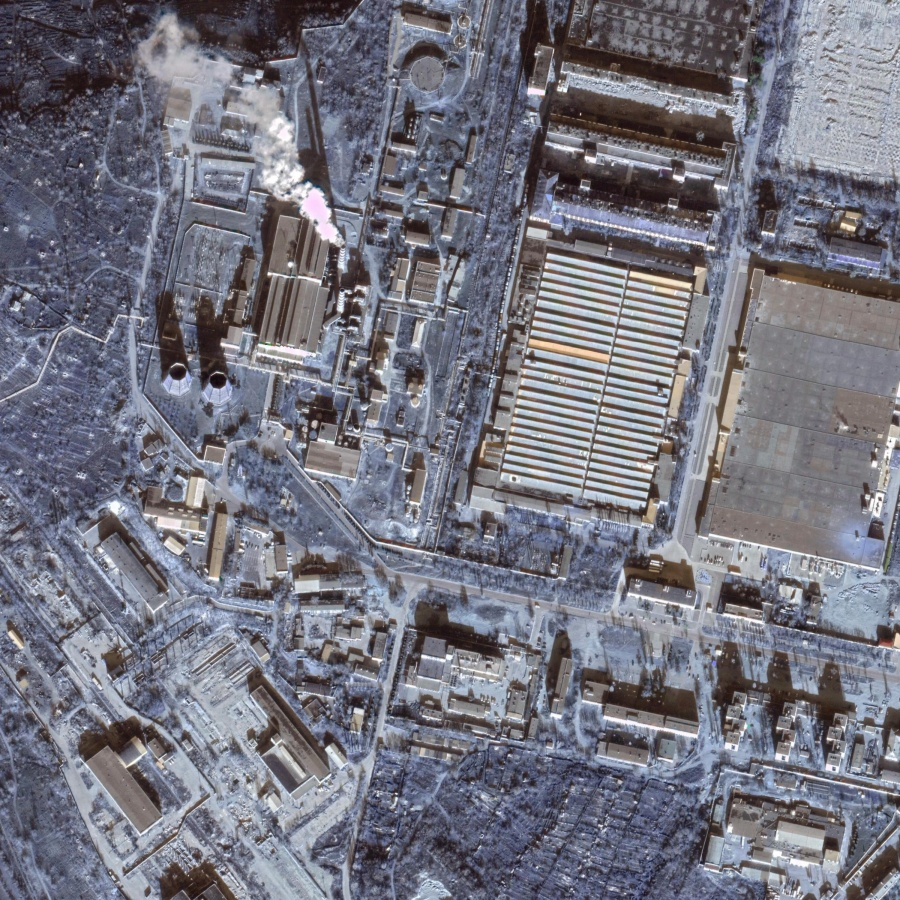PowerPlant: (149, 156, 372, 417)
